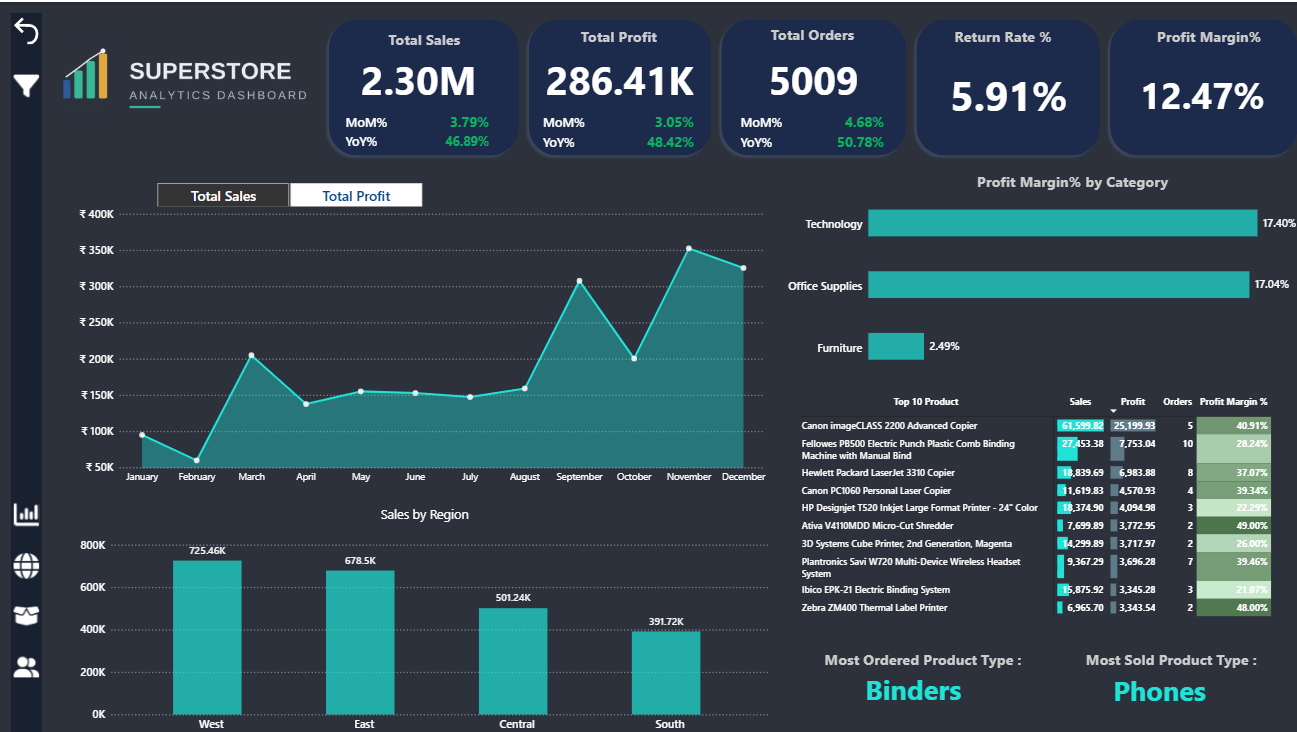

This screenshot's page, from the dashboard's own definition file:
{"tool":"powerbi","page":{"name":"Exec Dashboard","canvas":[1920,1080],"ordinal":0},"visuals":[{"type":"shape","box":[0,0,77.8,1080.4],"z":0},{"type":"image","box":[77.8,30.8,546.5,139.3],"z":1000},{"type":"shape","box":[476.7,18.4,294.5,215.3],"z":2000},{"type":"shape","box":[771.2,18.4,283.4,215.3],"z":3000},{"type":"shape","box":[1054.6,18.4,287.1,215.3],"z":4000},{"type":"shape","box":[1627,18.4,292.6,215.3],"z":5000},{"type":"shape","box":[1341.7,18.4,285.3,215.3],"z":6000},{"type":"cardVisual","fields":{"Data":["Measure.Total Sales"]},"box":[476.7,62.6,279.8,156.4],"z":7000},{"type":"textbox","title":"Total Sales","box":[555.1,24.7,147.2,46],"z":8000},{"type":"cardVisual","fields":{"Data":["Measure.Profit Margin"]},"box":[1639.9,53.4,261.4,149.1],"z":9000},{"type":"cardVisual","fields":{"Data":["Measure.Total Orders"]},"box":[1058.3,62.6,279.8,156.4],"z":11000},{"type":"cardVisual","fields":{"Data":["Measure.Total Profit"]},"box":[767.5,62.6,290.8,156.4],"z":12000},{"type":"textbox","title":"Total Orders","box":[1118.9,17.3,160.1,49.7],"z":13000},{"type":"textbox","title":"Total Profit","box":[839.7,19.5,147.2,49.7],"z":14000},{"type":"textbox","title":"Profit Margin%","box":[1688,19.5,185.9,49.7],"z":15000},{"type":"textbox","title":"Return Rate %","box":[1389.4,19.5,209.8,49.7],"z":16000},{"type":"areaChart","title":"Sales & Profit Trends","fields":{"Category":["Calendar.Date.Variation.Date Hierarchy.Year","Calendar.Date.Variation.Date Hierarchy.Quarter","Calendar.Date.Variation.Date Hierarchy.Month","Calendar.Date.Variation.Date Hierarchy.Day"],"Y":["Measure.Total Sales"]},"box":[116.9,300.8,1015,413.4],"z":17000},{"type":"slicer","fields":{"Values":["Sales & Profit selection.Sales & Profit selection"]},"box":[195.4,247.9,461.5,52.5],"z":18000},{"type":"barChart","fields":{"Category":["Orders.Category"],"Y":["Measure.Profit Margin"]},"box":[1160,261.9,751,307.6],"z":19000},{"type":"textbox","title":"Profit Margin% by Category","box":[1422.7,233.7,318.4,55.2],"z":20000},{"type":"pivotTable","fields":{"Rows":["Orders.Product Name"],"Values":["Measure.Total Sales","Measure.Total Profit","Measure.Total Orders","Measure.Profit Margin"]},"box":[1160,559.2,732.9,367.4],"z":21000},{"type":"columnChart","title":"Sales by Region","fields":{"Category":["People.Region"],"Y":["Measure.Total Sales"]},"box":[117.6,742,1015.2,338.4],"z":22000},{"type":"card","fields":{"Values":["Min(Orders.Sub-Category)"]},"box":[1160.5,945.1,366.9,134.4],"z":23000},{"type":"textbox","title":"Most Ordered Product Type :","box":[1198.2,936.8,322.1,57.1],"z":24000},{"type":"card","fields":{"Values":["Min(Orders.Sub-Category)"]},"box":[1523.7,946.5,366.9,134.4],"z":25000},{"type":"textbox","title":"Most Sold Product Type :","box":[1582.8,936.8,292.6,53.4],"z":26000},{"type":"actionButton","box":[0,712,77.9,64.9],"z":27000},{"type":"actionButton","box":[0,862.1,77.9,64.9],"z":28000},{"type":"actionButton","box":[0,787,77.9,64.9],"z":29000},{"type":"actionButton","box":[0,937.1,77.9,64.9],"z":30000},{"type":"actionButton","box":[0,0,77.9,62.8],"z":31000},{"type":"actionButton","box":[0,80.1,77.9,64.9],"z":32000},{"type":"group","id":"g1","title":"Group 1","box":[77.9,0,311.6,1079.9],"z":33000},{"type":"cardVisual","fields":{"Data":["Measure.Return Rate %"]},"box":[1354.8,54.1,261.4,149.1],"z":34000}]}

Visuals, with their boxes in screenshot pixels (x1, y1, x2, y2), scaled from the page's 1920x1080 canvas onto the 1297x732 screenshot:
shape: crop(0, 0, 53, 731)
image: crop(53, 21, 422, 115)
shape: crop(322, 12, 521, 158)
shape: crop(521, 12, 712, 158)
shape: crop(712, 12, 906, 158)
shape: crop(1099, 12, 1296, 158)
shape: crop(906, 12, 1099, 158)
cardVisual - Measure.Total Sales: crop(322, 42, 511, 148)
"Total Sales" textbox: crop(375, 17, 474, 48)
cardVisual - Measure.Profit Margin: crop(1108, 36, 1284, 137)
cardVisual - Measure.Total Orders: crop(715, 42, 904, 148)
cardVisual - Measure.Total Profit: crop(518, 42, 715, 148)
"Total Orders" textbox: crop(756, 12, 864, 45)
"Total Profit" textbox: crop(567, 13, 667, 47)
"Profit Margin%" textbox: crop(1140, 13, 1266, 47)
"Return Rate %" textbox: crop(939, 13, 1080, 47)
"Sales & Profit Trends" areaChart: crop(79, 204, 765, 484)
slicer - Sales & Profit selection.Sales & Profit selection: crop(132, 168, 444, 204)
barChart - Orders.Category x Measure.Profit Margin: crop(784, 178, 1291, 386)
"Profit Margin% by Category" textbox: crop(961, 158, 1176, 196)
pivotTable - Orders.Product Name x Measure.Total Sales: crop(784, 379, 1279, 628)
"Sales by Region" columnChart: crop(79, 503, 765, 731)
card - Min(Orders.Sub-Category): crop(784, 641, 1032, 731)
"Most Ordered Product Type :" textbox: crop(809, 635, 1027, 674)
card - Min(Orders.Sub-Category): crop(1029, 642, 1277, 731)
"Most Sold Product Type :" textbox: crop(1069, 635, 1267, 671)
actionButton: crop(0, 483, 53, 527)
actionButton: crop(0, 584, 53, 628)
actionButton: crop(0, 533, 53, 577)
actionButton: crop(0, 635, 53, 679)
actionButton: crop(0, 0, 53, 43)
actionButton: crop(0, 54, 53, 98)
"Group 1" group: crop(53, 0, 263, 731)
cardVisual - Measure.Return Rate %: crop(915, 37, 1092, 138)
